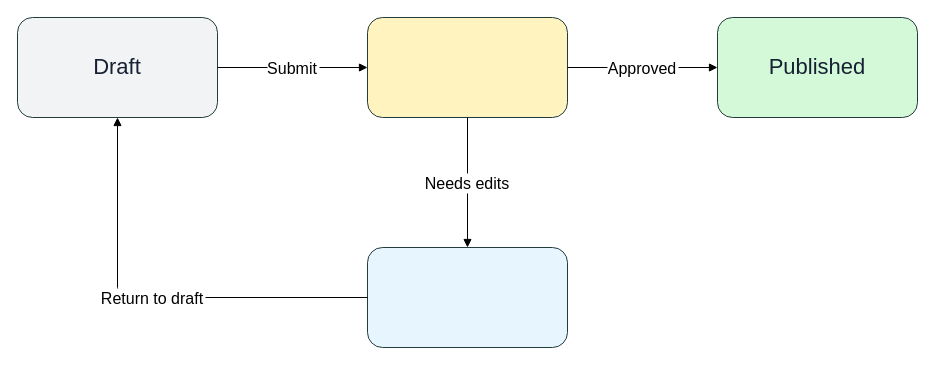
Image size: 935x365. Some labels were removed from this diagram. The shapes that lost their labels are listed below. From the top down, each one's centre as x and y in pixels, then its label:
the point at 467,67: Review
the point at 467,297: Revise
